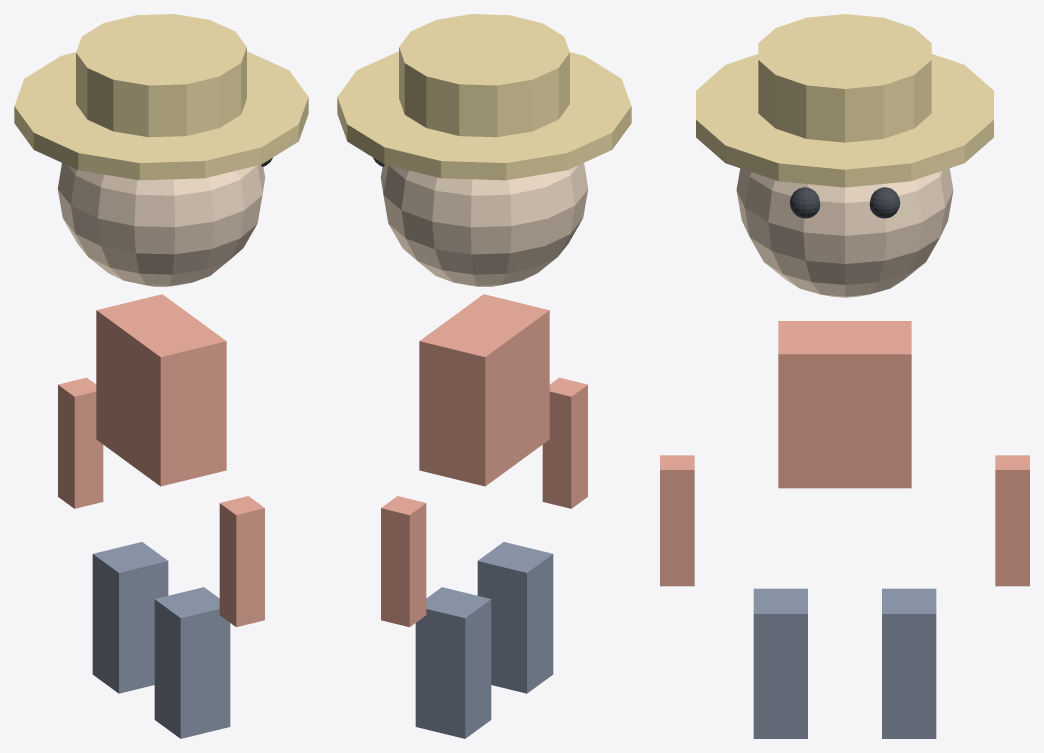
Rendered from player.glb.
3 renders of one model, left to right at view 1: azimuth 30°, elevation 25°; view 2: azimuth 150°, elevation 25°; view 3: azimuth 270°, elevation 25°, orthographic. The views are drawn at different scales.
Visible parts, largest first — view 1: Torso, Head, HatBrim, HatTop, LegL, LegR, ArmL, ArmR; view 2: Torso, Head, HatBrim, HatTop, LegR, LegL, ArmR, ArmL; view 3: Torso, HatBrim, HatTop, Head, LegL, LegR, ArmL, ArmR, EyeL, EyeR.
Part boxes in pixels (bbox=[...]): Torso: bbox=[96, 294, 226, 486]; Head: bbox=[57, 163, 265, 286]; HatBrim: bbox=[14, 51, 308, 180]; HatTop: bbox=[76, 14, 246, 137]; LegL: bbox=[154, 587, 230, 738]; LegR: bbox=[92, 542, 168, 693]; ArmL: bbox=[219, 496, 264, 627]; ArmR: bbox=[58, 377, 103, 508]; Torso: bbox=[419, 294, 549, 486]; Head: bbox=[380, 163, 588, 286]; HatBrim: bbox=[337, 51, 631, 180]; HatTop: bbox=[399, 14, 569, 137]; LegR: bbox=[415, 587, 491, 738]; LegL: bbox=[477, 542, 553, 693]; ArmR: bbox=[381, 496, 426, 627]; ArmL: bbox=[542, 377, 587, 508]; Torso: bbox=[778, 321, 911, 488]; HatBrim: bbox=[696, 54, 993, 187]; HatTop: bbox=[758, 14, 931, 142]; Head: bbox=[736, 168, 953, 297]; LegL: bbox=[753, 588, 807, 738]; LegR: bbox=[882, 588, 936, 738]; ArmL: bbox=[660, 455, 694, 586]; ArmR: bbox=[995, 455, 1029, 586]; EyeL: bbox=[789, 187, 820, 218]; EyeR: bbox=[869, 187, 900, 218].
Size of the model in its own units: 0.31 by 0.755 by 0.375.
